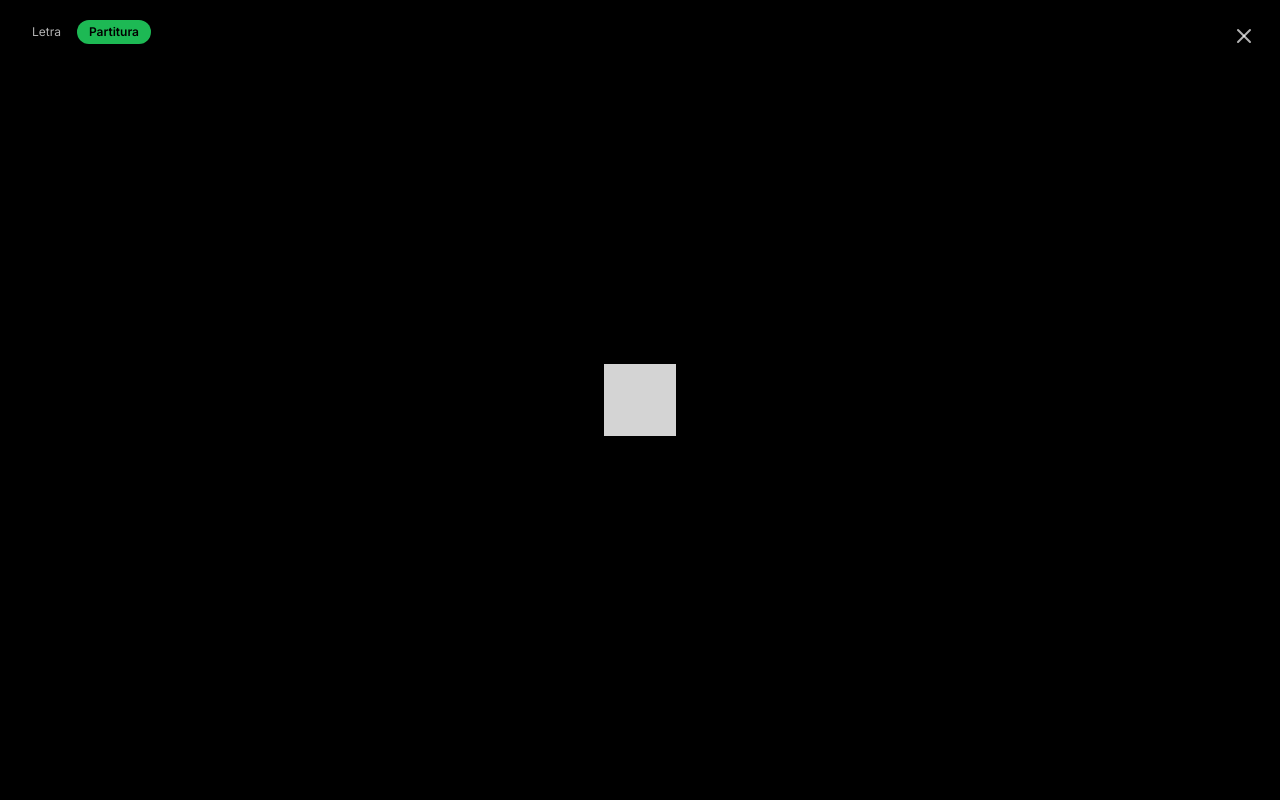
Test: ScoreViewer — extended › switches to lyrics tab when Letra button is clicked
Expected: the button "Partitura" is shown, [77, 20, 151, 44]
// Switch to lyrics tab
Click the button "Letra".
click(46, 32)  # box [20, 20, 73, 44]
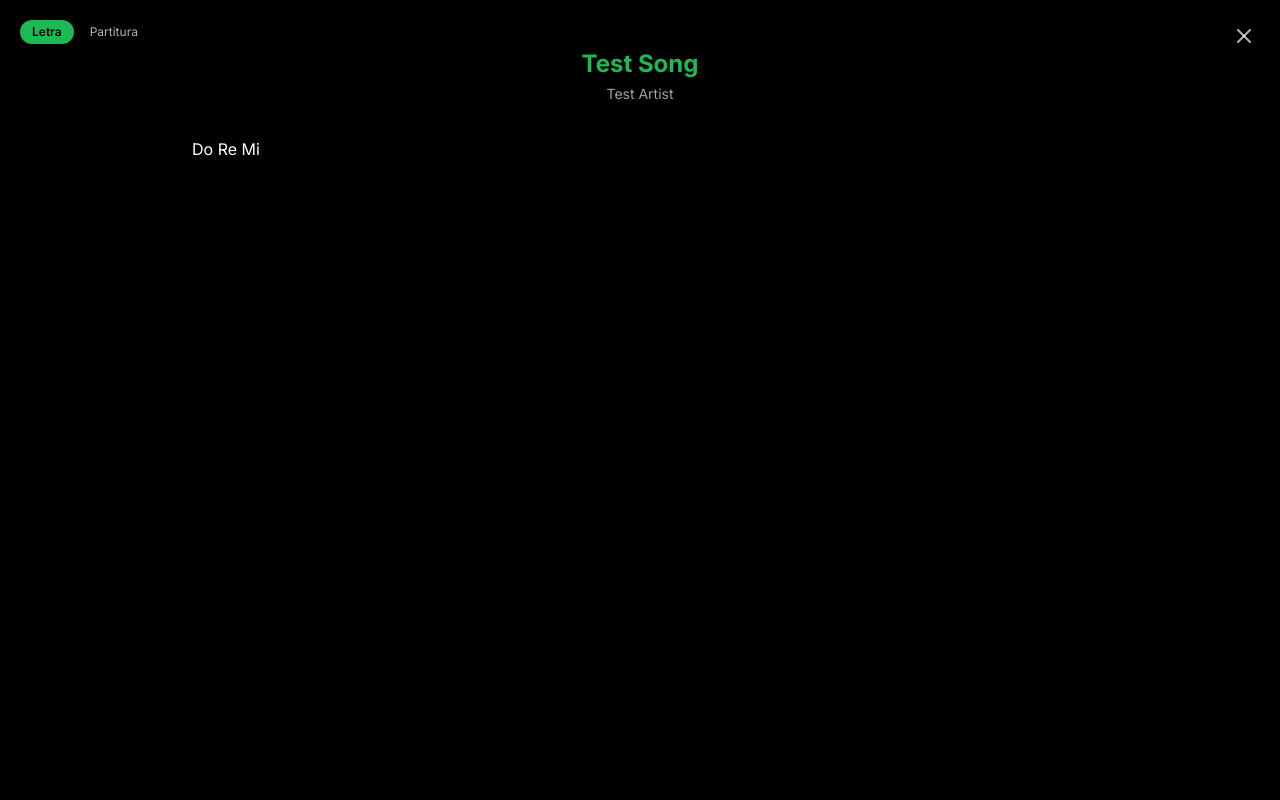
Expected: the text "Do Re Mi" is shown, [192, 139, 260, 159]
